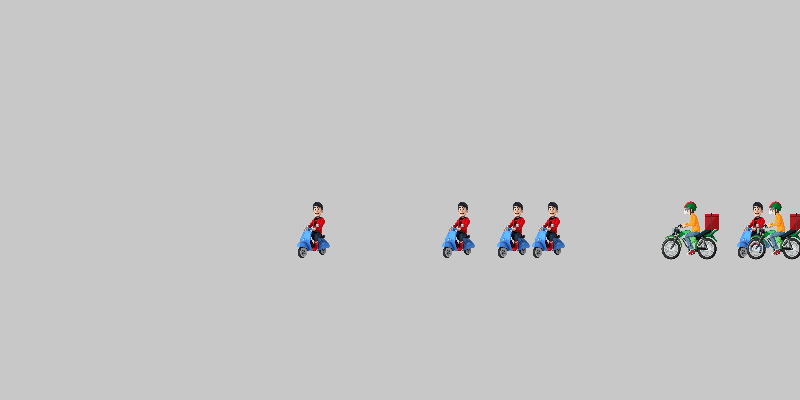helmet: (660, 200, 720, 260), (745, 200, 800, 260)
no_helmet: (285, 200, 345, 260), (430, 200, 490, 260), (485, 200, 545, 260), (520, 200, 580, 260), (725, 200, 785, 260)
